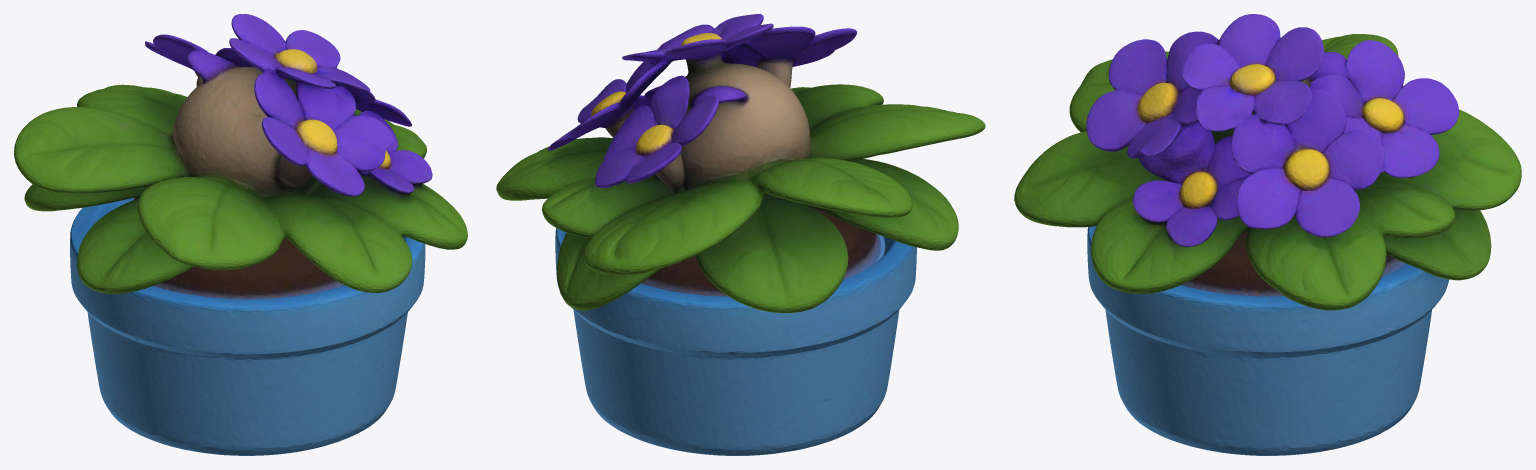
The model's file is flower_4.glb.
3 views of the same model, side by side, from view 1: azimuth 30°, elevation 25°; view 2: azimuth 150°, elevation 25°; view 3: azimuth 270°, elevation 25° (orthographic). The views are drawn at different scales.
Parts seen in each view (by area): view 1: tripo_node_da6fa999-45d1-4578-addc-8da774744472; view 2: tripo_node_da6fa999-45d1-4578-addc-8da774744472; view 3: tripo_node_da6fa999-45d1-4578-addc-8da774744472.
Part boxes in pixels (x1=…): tripo_node_da6fa999-45d1-4578-addc-8da774744472: x1=14, y1=14, x2=467, y2=455; tripo_node_da6fa999-45d1-4578-addc-8da774744472: x1=496, y1=14, x2=985, y2=455; tripo_node_da6fa999-45d1-4578-addc-8da774744472: x1=1014, y1=14, x2=1521, y2=455.
Bounding box in the file's own units: 0.9547 × 0.8409 × 1.04.
Materials: 1 (1 with a texture image).
